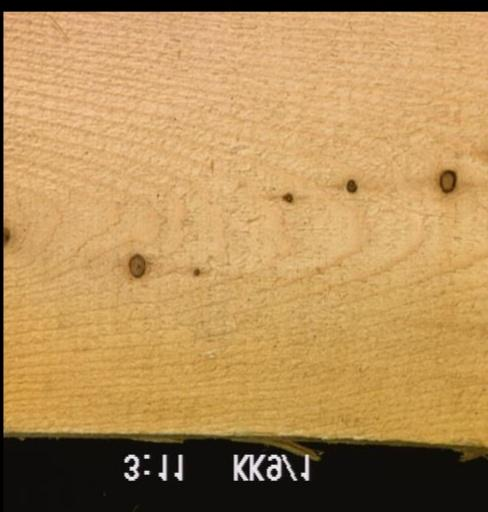dry_knot: (126, 253, 146, 278), (438, 168, 456, 193)
small_knot: (344, 178, 357, 194), (282, 191, 293, 204), (191, 267, 200, 278)
sound_knot: (3, 224, 9, 246)
